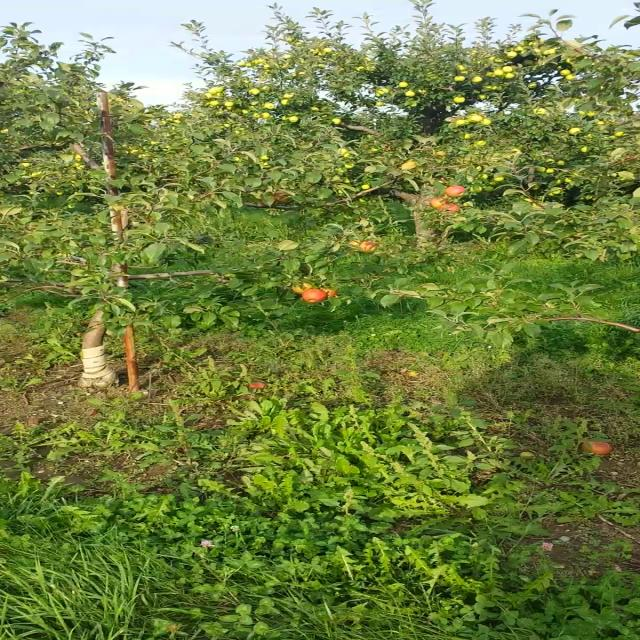apple: (302, 288, 324, 302), (444, 185, 468, 197), (436, 203, 461, 214), (290, 283, 309, 293), (360, 241, 376, 251), (428, 197, 444, 207), (321, 288, 337, 298), (349, 239, 361, 249)
